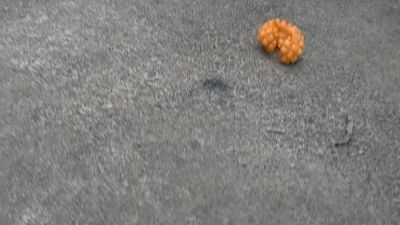eggs: (255, 16, 308, 65)
